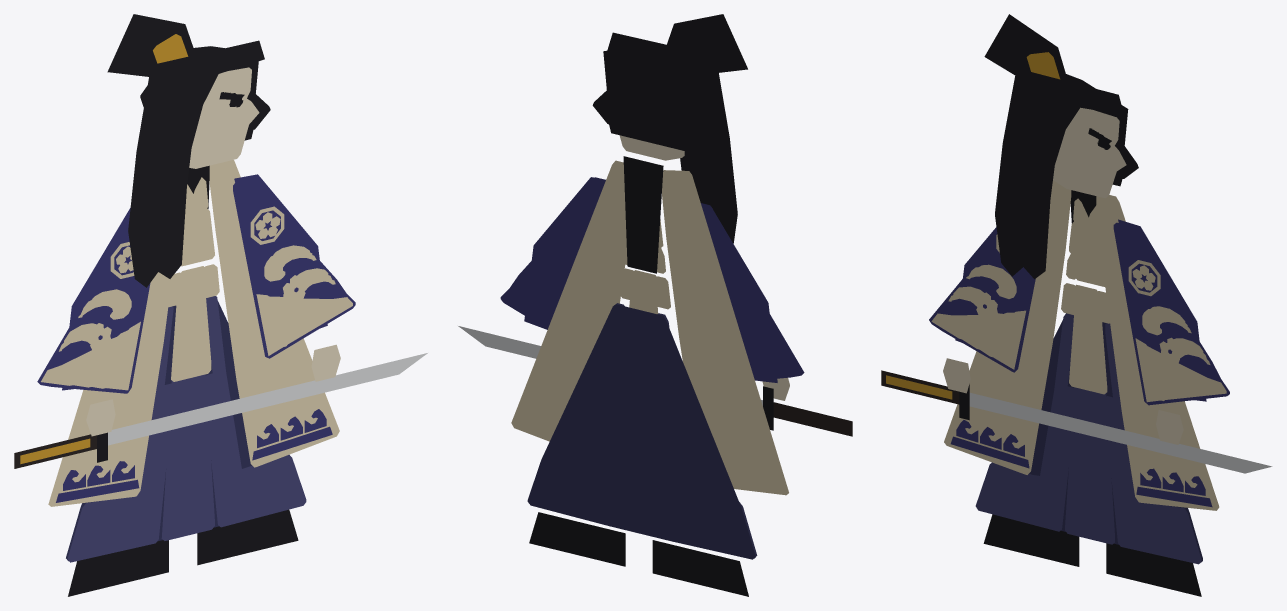
Rendered from samurai-v5.glb.
3 renders of one model, left to right at view 1: azimuth 30°, elevation 25°; view 2: azimuth 150°, elevation 25°; view 3: azimuth 330°, elevation 25°, orthographic. The views are drawn at different scales.
Visible parts, largest first — view 1: sumi_hair, robe_L, kami_sleeve_L, robe_R, kami_sleeve_R, hakama_L, hakama_R, sword_paper, hakama_mid, face, kami_hair, feet_L (+10 smaller); view 2: hakama_back, robe_R, kami_hair, robe_L, sumi_sleeve_L, sumi_hair, sumi_sleeve_R, neck, feet_R, feet_L, sword_paper, kami_sleeve_R (+3 smaller); view 3: sumi_hair, robe_R, robe_L, kami_sleeve_L, kami_sleeve_R, hakama_R, hakama_L, sword_paper, hakama_mid, face, kami_hair, feet_R (+10 smaller).
Part boxes in pixels (x1=…): sumi_hair: x1=128, y1=40, x2=264, y2=287; robe_L: x1=209, y1=160, x2=339, y2=467; kami_sleeve_L: x1=233, y1=177, x2=355, y2=358; robe_R: x1=48, y1=272, x2=171, y2=506; kami_sleeve_R: x1=37, y1=227, x2=150, y2=393; hakama_L: x1=203, y1=296, x2=306, y2=527; hakama_R: x1=67, y1=306, x2=174, y2=562; sword_paper: x1=14, y1=353, x2=427, y2=468; hakama_mid: x1=161, y1=374, x2=214, y2=540; face: x1=189, y1=67, x2=259, y2=168; kami_hair: x1=107, y1=14, x2=270, y2=140; feet_L: x1=197, y1=509, x2=298, y2=565; hakama_back: x1=527, y1=304, x2=755, y2=559; robe_R: x1=662, y1=170, x2=788, y2=495; kami_hair: x1=592, y1=14, x2=747, y2=153; robe_L: x1=511, y1=160, x2=625, y2=441; sumi_sleeve_L: x1=524, y1=177, x2=605, y2=329; sumi_hair: x1=607, y1=32, x2=737, y2=243; sumi_sleeve_R: x1=701, y1=203, x2=777, y2=382; neck: x1=623, y1=156, x2=663, y2=273; feet_R: x1=652, y1=540, x2=748, y2=596; feet_L: x1=529, y1=512, x2=625, y2=566; sword_paper: x1=458, y1=326, x2=852, y2=436; kami_sleeve_R: x1=701, y1=203, x2=804, y2=378; sumi_hair: x1=995, y1=68, x2=1123, y2=279; robe_R: x1=944, y1=180, x2=1071, y2=474; robe_L: x1=1096, y1=195, x2=1219, y2=510; kami_sleeve_L: x1=1113, y1=222, x2=1229, y2=405; kami_sleeve_R: x1=929, y1=234, x2=1035, y2=372; hakama_R: x1=975, y1=313, x2=1076, y2=531; hakama_L: x1=1104, y1=323, x2=1201, y2=564; sword_paper: x1=881, y1=370, x2=1272, y2=473; hakama_mid: x1=1065, y1=387, x2=1114, y2=544; face: x1=1053, y1=107, x2=1126, y2=198; kami_hair: x1=984, y1=14, x2=1138, y2=186; feet_R: x1=983, y1=514, x2=1079, y2=566.
Bounding box in the file's own units: 2.96 × 4 × 0.38.
